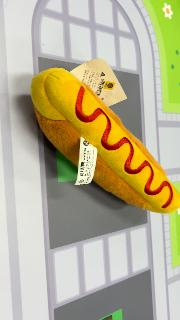hotdog: (31, 67, 180, 215)
